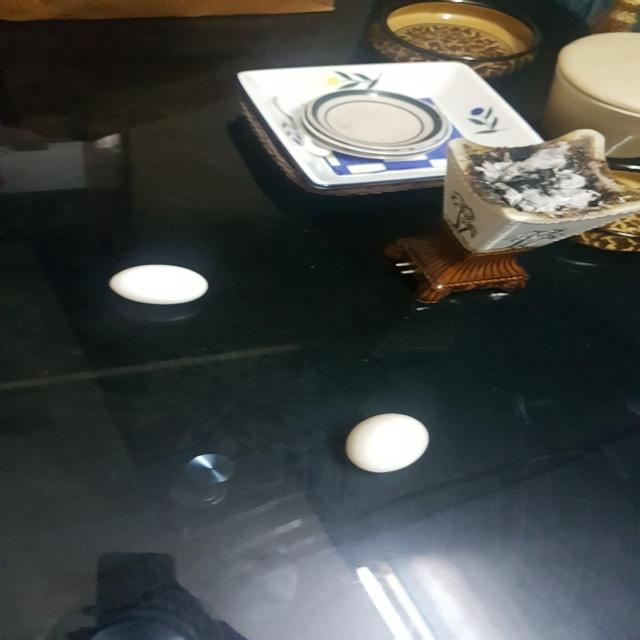eggs: (341, 412, 431, 472), (106, 263, 208, 304)
